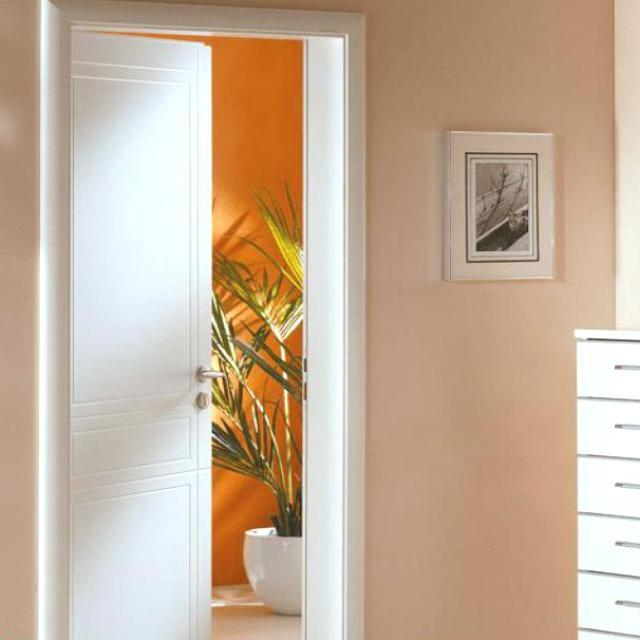Door: (67, 27, 214, 639)
